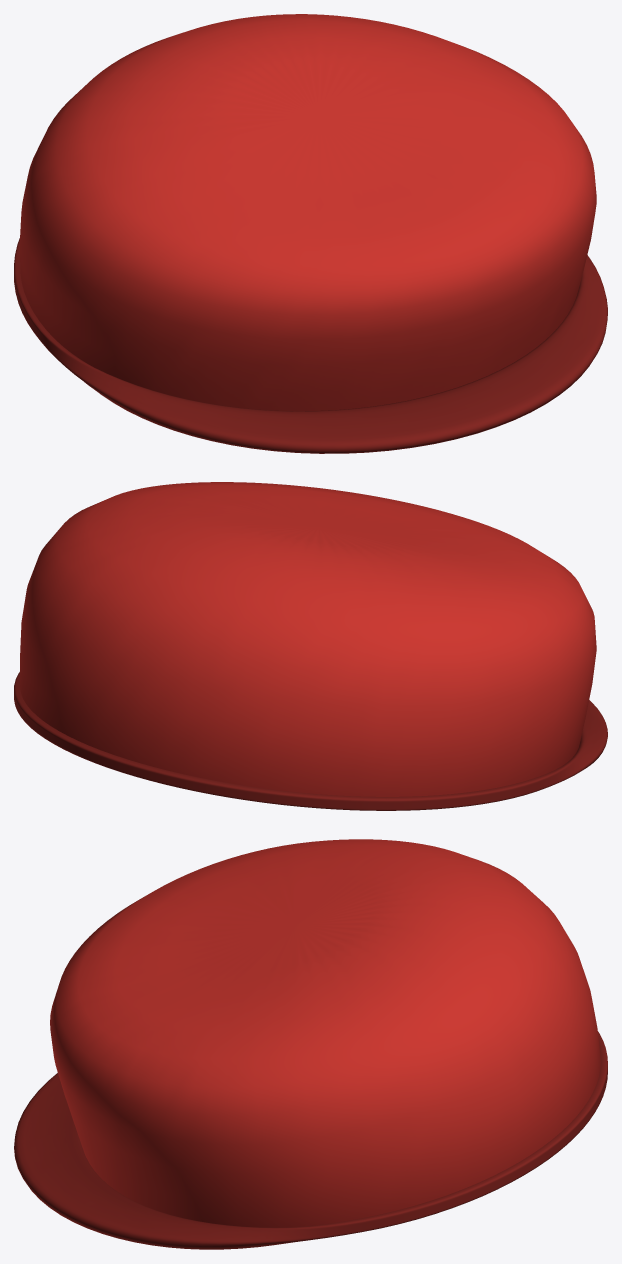
The model's file is hw_flatcap.glb.
3 renders of one model, top to bottom at view 1: azimuth 30°, elevation 25°; view 2: azimuth 150°, elevation 25°; view 3: azimuth 270°, elevation 25°, orthographic.
Visible parts, largest first — view 1: hw_flatcap, hw_flatcap_peak; view 2: hw_flatcap, hw_flatcap_peak; view 3: hw_flatcap, hw_flatcap_peak.
Boxes of the visible parts, x1=… form: hw_flatcap: x1=20, y1=14, x2=596, y2=411; hw_flatcap_peak: x1=14, y1=238, x2=607, y2=453; hw_flatcap: x1=20, y1=482, x2=596, y2=796; hw_flatcap_peak: x1=14, y1=672, x2=607, y2=810; hw_flatcap: x1=50, y1=839, x2=600, y2=1227; hw_flatcap_peak: x1=14, y1=1031, x2=607, y2=1249.
Bounding box in the file's own units: 0.8485 × 0.3995 × 0.8389.
